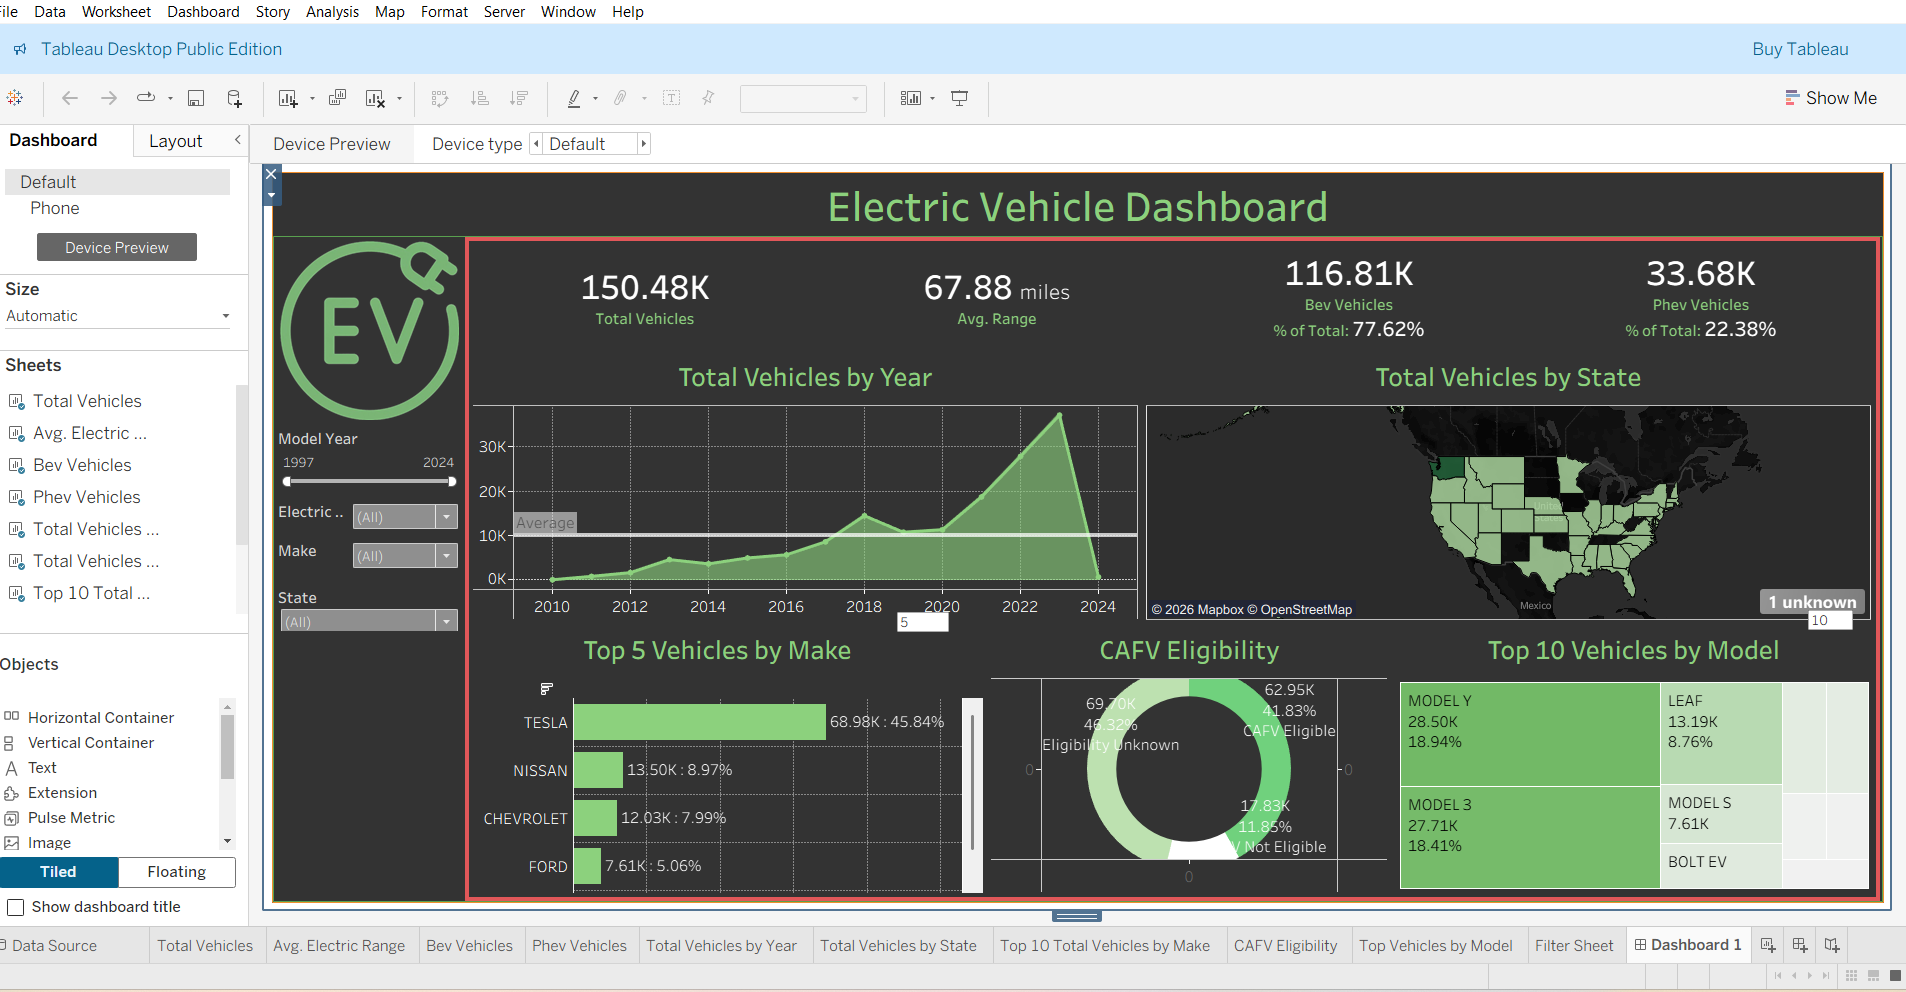

This screenshot's page, from the dashboard's own definition file:
{"tool":"tableau","page":{"name":"Dashboard 1","canvas":[1000,1000],"units":"permille","ordinal":0},"visuals":[{"type":"text","box":[5.8,11.2,988.5,78.7]},{"type":"image","param":"Image/ev1.jpeg","box":[6.4,91.1,121.9,300.9]},{"type":"worksheet","title":"Total Vehicles","mark":"Automatic","box":[130.8,96.1,215.1,137.3]},{"type":"worksheet","title":"Avg. Electric Range","mark":"Automatic","box":[345.9,96.1,215.1,137.3]},{"type":"worksheet","title":"Bev Vehicles","mark":"Automatic","box":[560.9,96.1,215.1,137.3]},{"type":"worksheet","title":"Phev Vehicles","mark":"Automatic","box":[776,96.1,215.1,137.3]},{"type":"worksheet","title":"Total Vehicles by Year","mark":"Line","rows":["DOL Vehicle ID","DOL Vehicle ID"],"cols":["Model Year"],"box":[130.8,233.5,411,347.1]},{"type":"worksheet","title":"Total Vehicles by State","mark":"Automatic","box":[541.8,233.5,449.3,347.1]},{"type":"filter","title":"Filter Sheet","param":"[federated.1oyc96509aa5hs19qmwqe0jpwe7u].[none:Model Year:qk]","box":[6.4,392,121.9,91.1]},{"type":"filter","title":"Filter Sheet","param":"[federated.1oyc96509aa5hs19qmwqe0jpwe7u].[none:Electric Vehicle Type:nk]","box":[6.4,483.1,121.9,48.7]},{"type":"filter","title":"Filter Sheet","param":"[federated.1oyc96509aa5hs19qmwqe0jpwe7u].[none:Make:nk]","box":[6.4,531.8,121.9,58.7]},{"type":"worksheet","title":"Top 10 Total Vehicles by Make","mark":"Bar","rows":["Make"],"cols":["DOL Vehicle ID"],"box":[130.8,580.5,330.6,367]},{"type":"worksheet","title":"CAFV Eligibility","mark":"Pie","rows":["Calculation_455145088062648323","Calculation_455145088062648323"],"cols":["Calculation_455145088062648323"],"box":[461.4,580.5,258.5,367]},{"type":"worksheet","title":"Top Vehicles by Model","mark":"Automatic","box":[719.9,580.5,271.2,367]},{"type":"filter","title":"Filter Sheet","param":"[federated.1oyc96509aa5hs19qmwqe0jpwe7u].[none:State:nk]","box":[6.4,590.5,121.9,64.9]},{"type":"parameter","param":"[Parameters].[Parameter 2]","box":[946.4,593,31.3,43.7]},{"type":"parameter","param":"[Parameters].[Parameter 1]","box":[386.7,595.5,35.7,32.5]},{"type":"worksheet","title":"Filter Sheet","mark":"Automatic","box":[6.4,655.4,121.9,292.1]},{"type":"blank","box":[6.4,947.6,121.9,40]}]}

Visuals, with their boxes on the dashboard's canvas, which has no fixed pixel size, in thousandths of its width and height (x1, y1, x2, y2). These are canvas units, not pixel positions in the 1906x992 screenshot, which may show the page scaled, cropped or inside an application window:
text: {"left": 6, "top": 11, "right": 994, "bottom": 90}
image: {"left": 6, "top": 91, "right": 128, "bottom": 392}
"Total Vehicles" worksheet: {"left": 131, "top": 96, "right": 346, "bottom": 233}
"Avg. Electric Range" worksheet: {"left": 346, "top": 96, "right": 561, "bottom": 233}
"Bev Vehicles" worksheet: {"left": 561, "top": 96, "right": 776, "bottom": 233}
"Phev Vehicles" worksheet: {"left": 776, "top": 96, "right": 991, "bottom": 233}
"Total Vehicles by Year" worksheet (Line marks): {"left": 131, "top": 234, "right": 542, "bottom": 581}
"Total Vehicles by State" worksheet: {"left": 542, "top": 234, "right": 991, "bottom": 581}
"Filter Sheet" filter: {"left": 6, "top": 392, "right": 128, "bottom": 483}
"Filter Sheet" filter: {"left": 6, "top": 483, "right": 128, "bottom": 532}
"Filter Sheet" filter: {"left": 6, "top": 532, "right": 128, "bottom": 590}
"Top 10 Total Vehicles by Make" worksheet (Bar marks): {"left": 131, "top": 580, "right": 461, "bottom": 948}
"CAFV Eligibility" worksheet (Pie marks): {"left": 461, "top": 580, "right": 720, "bottom": 948}
"Top Vehicles by Model" worksheet: {"left": 720, "top": 580, "right": 991, "bottom": 948}
"Filter Sheet" filter: {"left": 6, "top": 590, "right": 128, "bottom": 655}
parameter: {"left": 946, "top": 593, "right": 978, "bottom": 637}
parameter: {"left": 387, "top": 596, "right": 422, "bottom": 628}
"Filter Sheet" worksheet: {"left": 6, "top": 655, "right": 128, "bottom": 948}
blank: {"left": 6, "top": 948, "right": 128, "bottom": 988}
